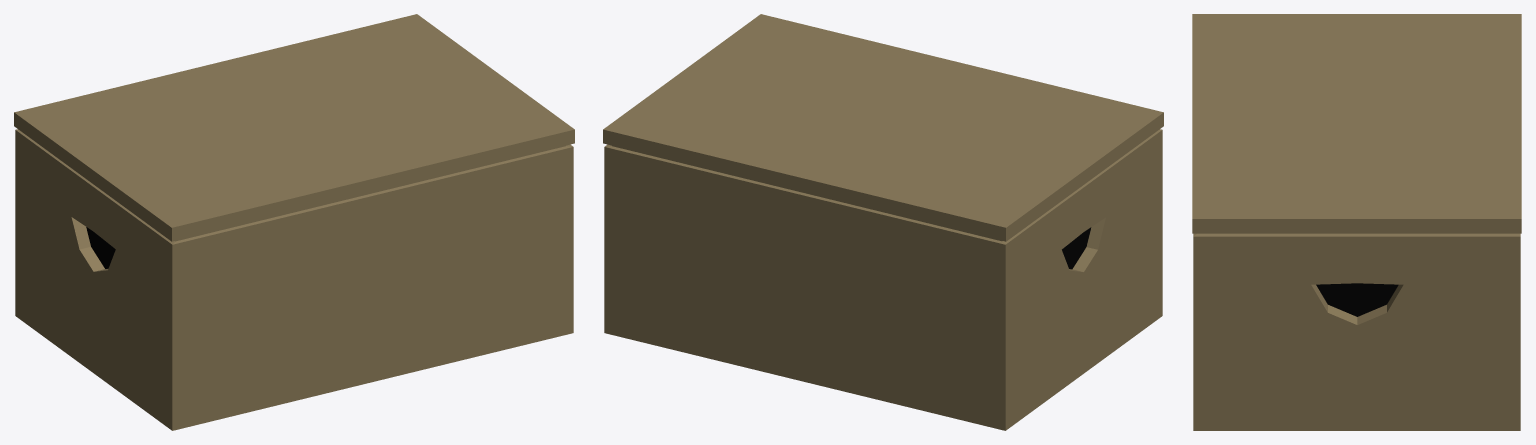
3 views of the same model, side by side, from view 1: azimuth 30°, elevation 25°; view 2: azimuth 150°, elevation 25°; view 3: azimuth 270°, elevation 25° (orthographic). The views are drawn at different scales.
Visible parts, largest first — view 1: CleaningSupplies1; view 2: CleaningSupplies1; view 3: CleaningSupplies1.
Part boxes in pixels (x1,y1,x2,y2): CleaningSupplies1: (14, 14, 574, 430); CleaningSupplies1: (603, 14, 1163, 430); CleaningSupplies1: (1192, 14, 1521, 430).
Size of the model in its own units: 27.5 by 13.27 by 18.65.
